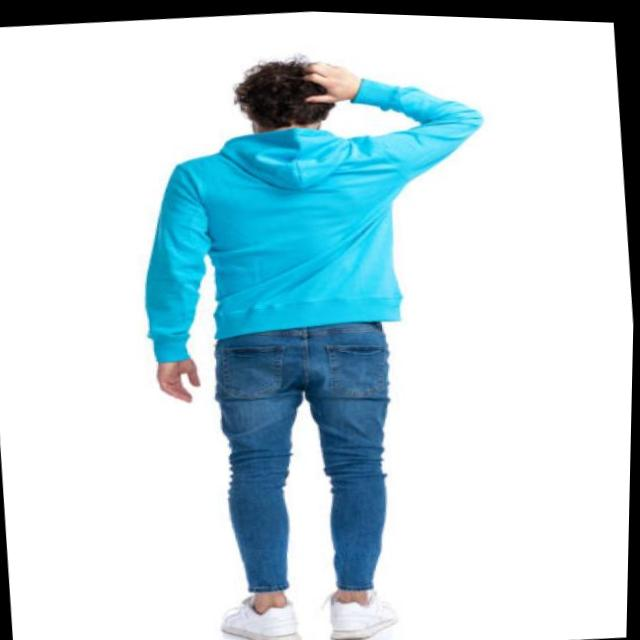no helmet: (196, 45, 348, 155)
